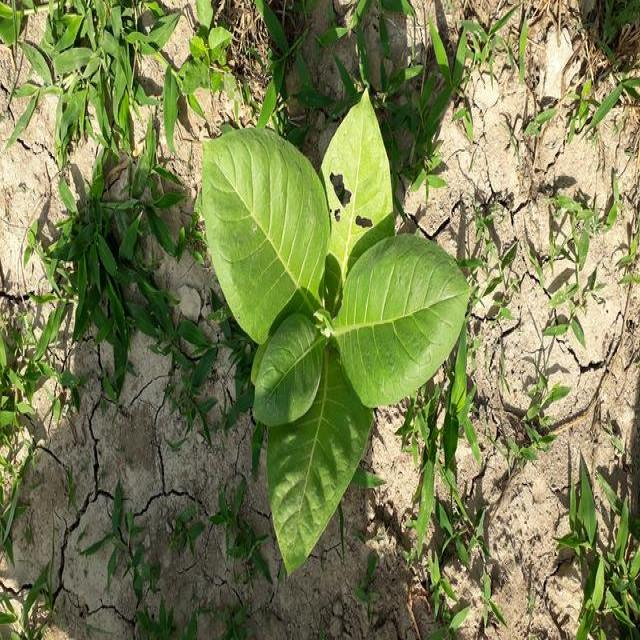crop: (202, 99, 468, 565)
